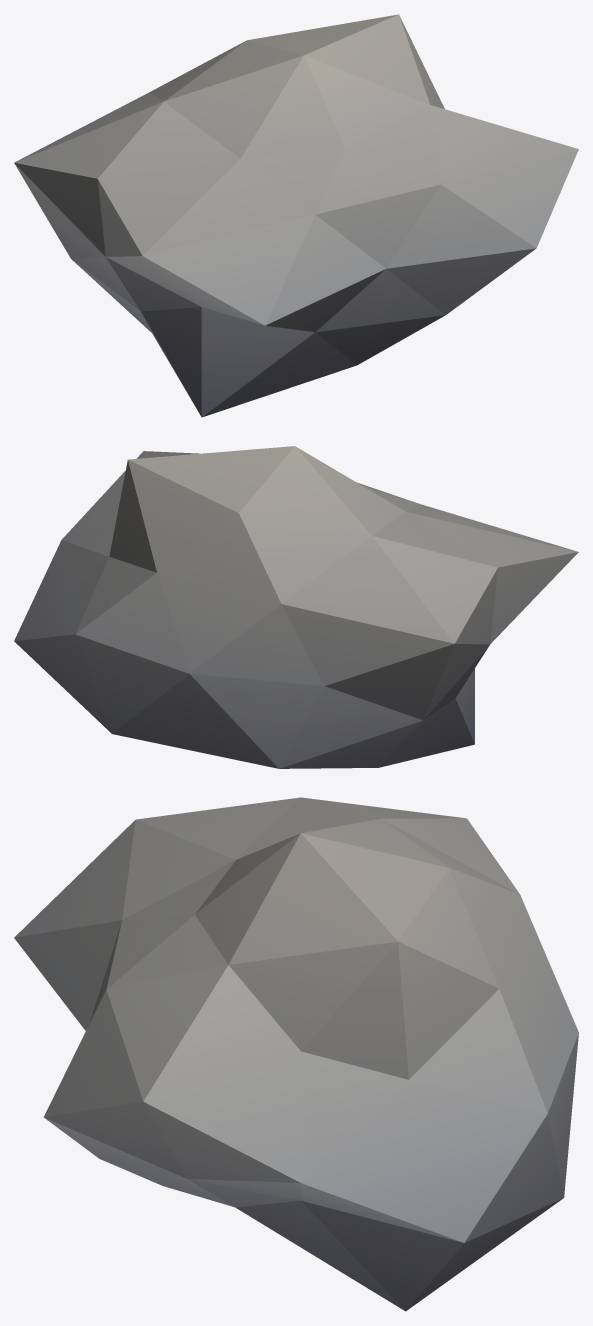
The model's file is rock_a.glb.
3 views of the same model, one above another, from view 1: azimuth 30°, elevation 25°; view 2: azimuth 150°, elevation 25°; view 3: azimuth 270°, elevation 25° (orthographic). The views are drawn at different scales.
Visible parts, largest first — view 1: rock_a; view 2: rock_a; view 3: rock_a.
Part boxes in pixels (<box>): rock_a: <box>14,14,578,417</box>; rock_a: <box>14,446,578,768</box>; rock_a: <box>14,797,578,1311</box>.
Bounding box in the file's own units: 4.63 × 2.87 × 3.76.
Materials: 1 (1 with a texture image).
